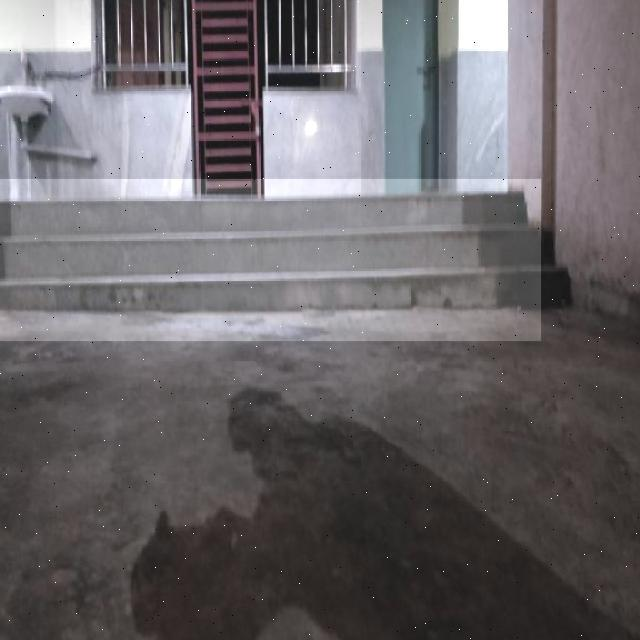stair: (0, 179, 541, 341)
